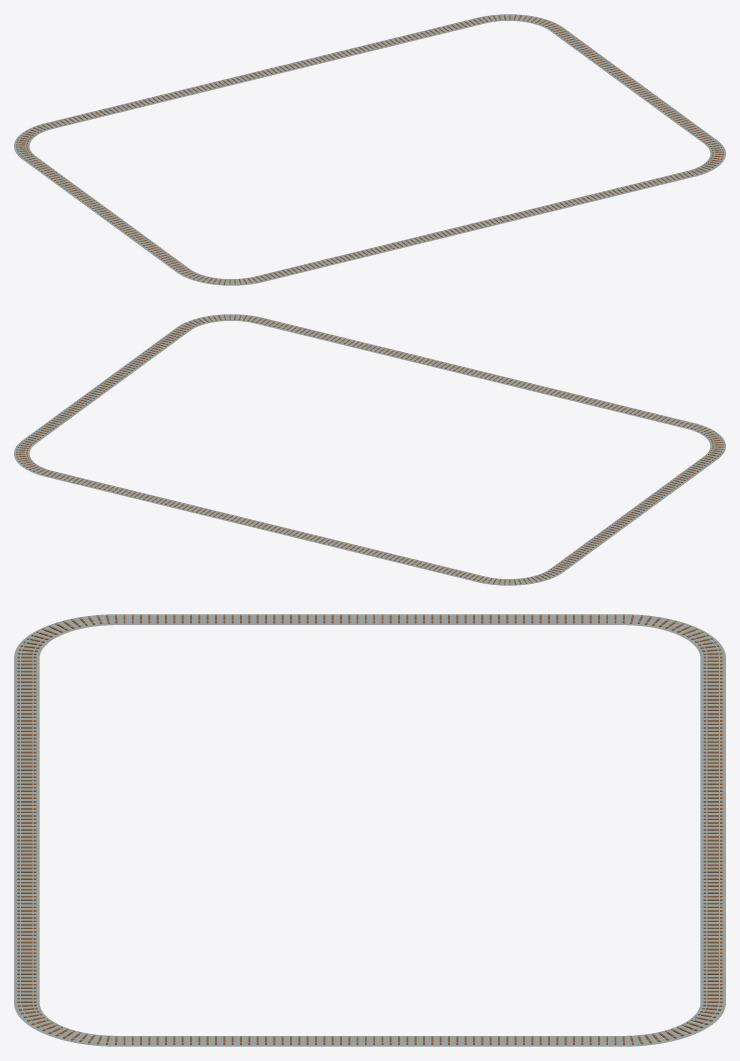
Rendered from railway-track.glb.
3 views of the same model, one above another, from view 1: azimuth 30°, elevation 25°; view 2: azimuth 150°, elevation 25°; view 3: azimuth 270°, elevation 25° (orthographic). The views are drawn at different scales.
Parts seen in each view (by area): view 1: RailwayTrack; view 2: RailwayTrack; view 3: RailwayTrack.
Part boxes in pixels (box(x1,y1,x2,y2)): RailwayTrack: box(14, 14, 725, 285); RailwayTrack: box(14, 314, 725, 585); RailwayTrack: box(14, 614, 725, 1046).
Bounding box in the file's own units: 135 × 0.21 × 94.2.
